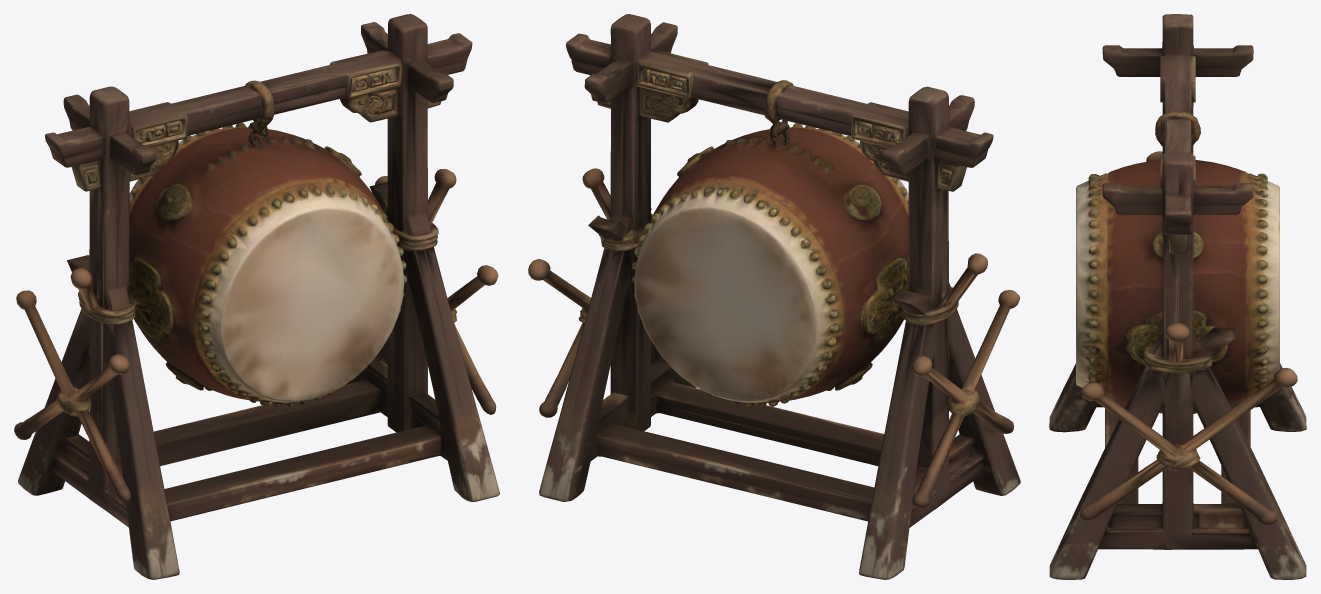
File: war-drum-red-hy3-v1.glb
3 views of the same model, side by side, from view 1: azimuth 30°, elevation 25°; view 2: azimuth 150°, elevation 25°; view 3: azimuth 270°, elevation 25° (orthographic). The views are drawn at different scales.
Parts seen in each view (by area): view 1: node_0; view 2: node_0; view 3: node_0.
Part boxes in pixels (x1,y1,x2,y2): node_0: (14, 14, 499, 579); node_0: (528, 14, 1020, 579); node_0: (1049, 14, 1306, 579).
Size of the model in its own units: 1.95 by 1.95 by 1.1.
Materials: 1 (1 with a texture image).
